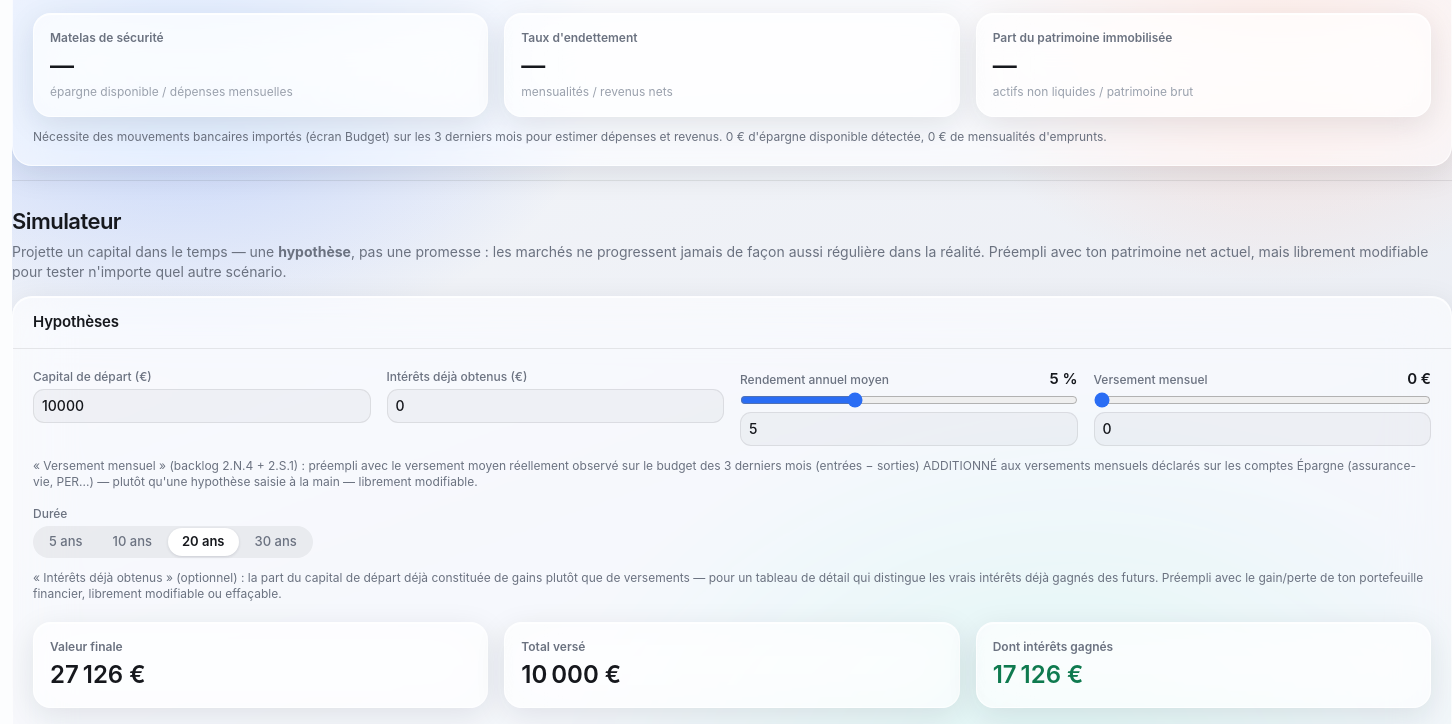
Test: SimulateurPage › un capital modifié fait apparaître un bouton pour revenir au patrimoine net actuel
The image size is (1452, 724).
(page scrolled)
Replace the text in the number field labelled "Capital de départ (€)" with "50000" at (202,406), box [33, 388, 370, 422]
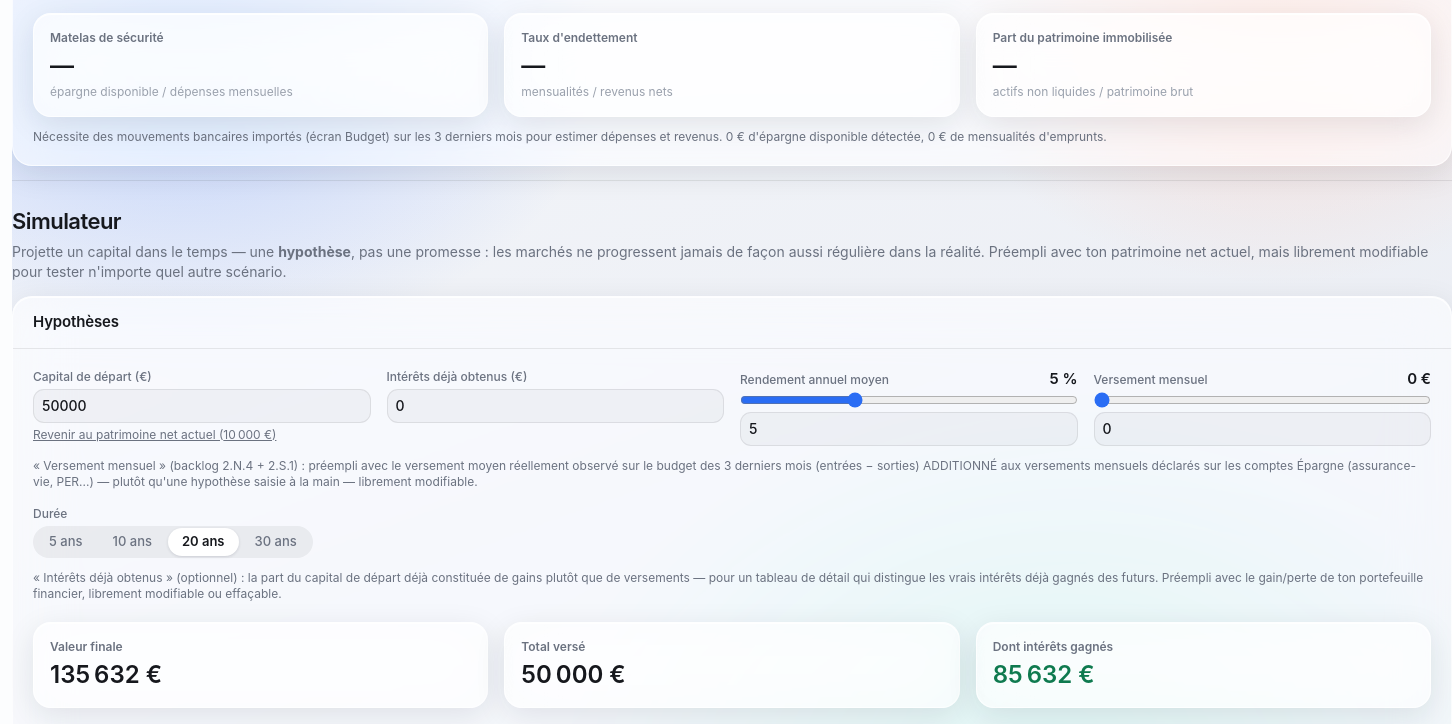
Click the button "Revenir au patrimoine net actuel (10 000 €)".
click(202, 434)  # box [33, 426, 370, 442]
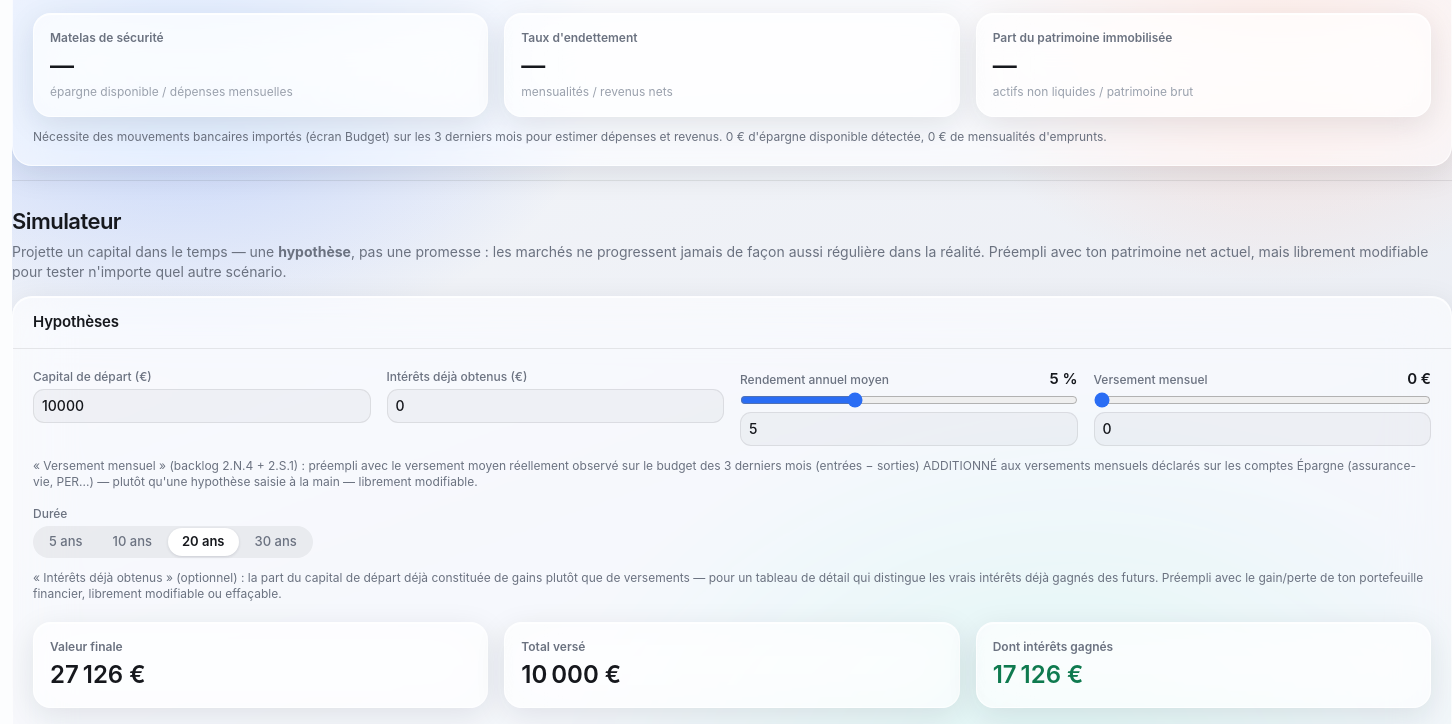
Expected: the number field labelled "Capital de départ (€)" holds "10000", [33, 388, 370, 422]
Expected: the button "Revenir au patrimoine net actuel" is gone
